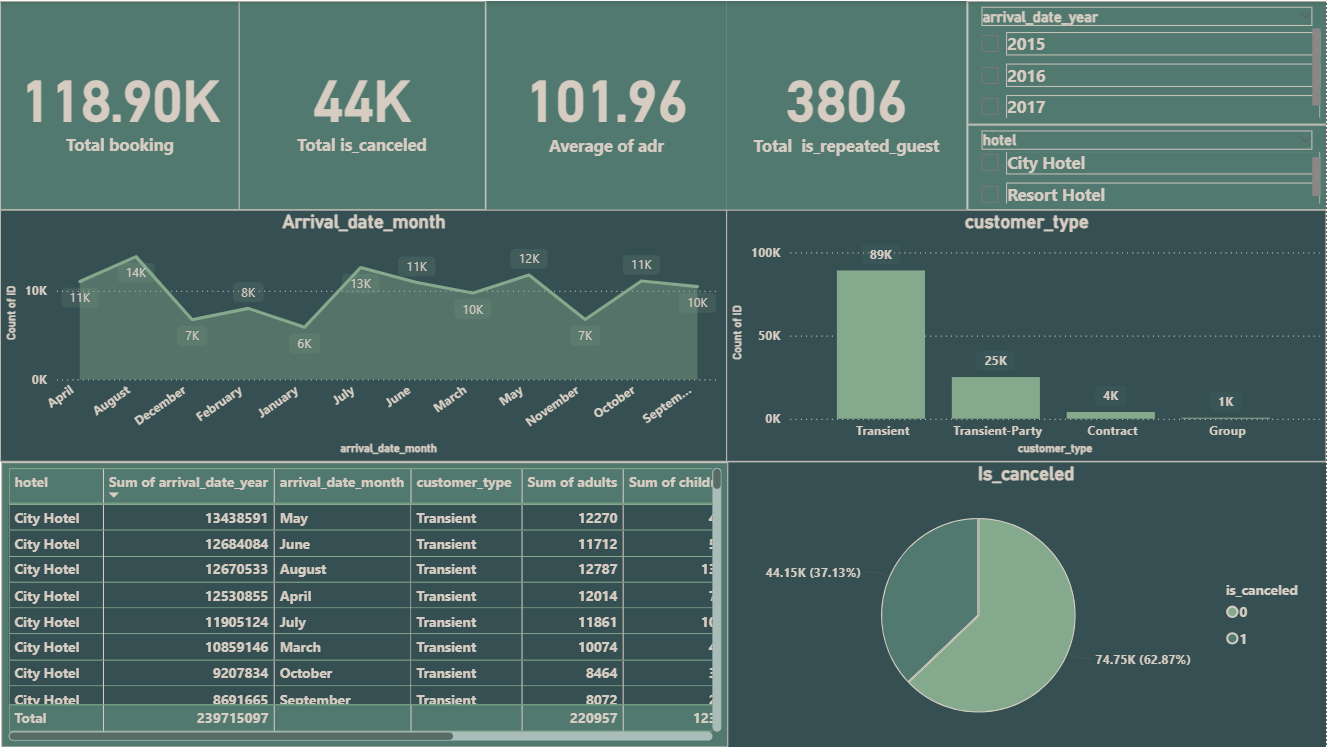

Layout of this report page (visuals, bound fields, positions):
{"tool":"powerbi","page":{"name":"Page 1","canvas":[1280,720],"ordinal":0},"visuals":[{"type":"card","fields":{"Values":["CountNonNull(hotel.ID)"]},"box":[0,0,232.2,201.7],"z":0},{"type":"card","fields":{"Values":["Sum(hotel.is_canceled)"]},"box":[230.7,0,238.3,201.7],"z":1000},{"type":"card","fields":{"Values":["Avg(hotel.adr)"]},"box":[469,0,232.2,201.7],"z":2000},{"type":"card","fields":{"Values":["Sum(hotel.is_repeated_guest)"]},"box":[701.3,0,232.2,201.7],"z":3000},{"type":"pieChart","title":" Is_canceled","fields":{"Category":["hotel.is_canceled"],"Y":["CountNonNull(hotel.ID)"]},"box":[701.3,444.6,579,275],"z":4000},{"type":"lineChart","title":" Arrival_date_month","fields":{"Category":["hotel.arrival_date_month"],"Y":["CountNonNull(hotel.ID)"]},"box":[0,201.7,701.3,242.9],"z":5000},{"type":"clusteredColumnChart","title":"customer_type","fields":{"Category":["hotel.customer_type"],"Y":["CountNonNull(hotel.ID)"]},"box":[701.3,201.7,579,242.9],"z":6000},{"type":"slicer","fields":{"Values":["hotel.arrival_date_year"]},"box":[933.5,0,346.8,119.2],"z":7000},{"type":"slicer","fields":{"Values":["hotel.hotel"]},"box":[933.5,119.2,346.8,82.5],"z":8000},{"type":"tableEx","fields":{"Values":["hotel.hotel","Sum(hotel.arrival_date_year)","hotel.arrival_date_month","hotel.customer_type","Sum(hotel.adults)","Sum(hotel.children)","Sum(hotel.babies)","Sum(hotel.Total Nights)","Sum(hotel.is_canceled)"]},"box":[1.5,444.6,701.3,275],"z":9000}]}

Visuals, with their boxes in screenshot pixels (x1, y1, x2, y2), scaled from the page's 1280x720 canvas onto the 1327x747 screenshot:
card - CountNonNull(hotel.ID): [0, 0, 241, 209]
card - Sum(hotel.is_canceled): [239, 0, 486, 209]
card - Avg(hotel.adr): [486, 0, 727, 209]
card - Sum(hotel.is_repeated_guest): [727, 0, 968, 209]
" Is_canceled" pieChart: [727, 461, 1326, 746]
" Arrival_date_month" lineChart: [0, 209, 727, 461]
"customer_type" clusteredColumnChart: [727, 209, 1326, 461]
slicer - hotel.arrival_date_year: [968, 0, 1326, 124]
slicer - hotel.hotel: [968, 124, 1326, 209]
tableEx - hotel.hotel x Sum(hotel.arrival_date_year): [2, 461, 729, 746]
